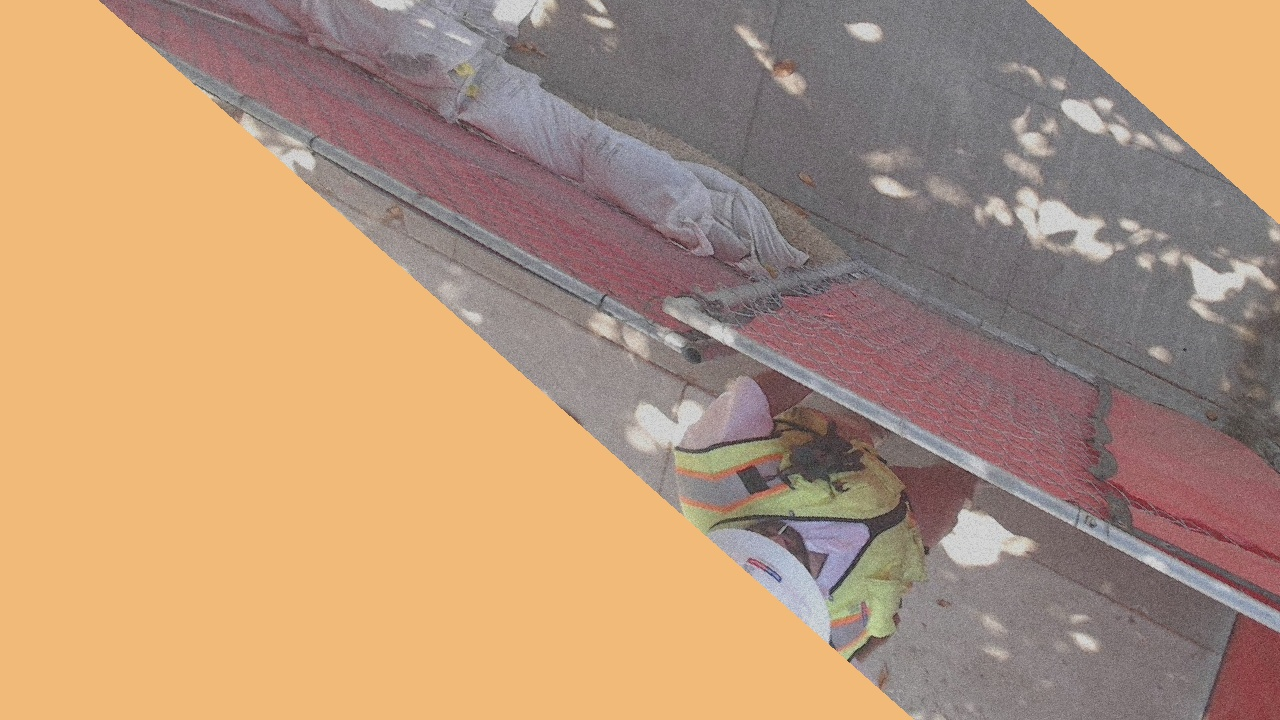hardhat: (701, 528, 829, 644)
person: (668, 366, 980, 666)
safetyvest: (670, 417, 924, 657)
